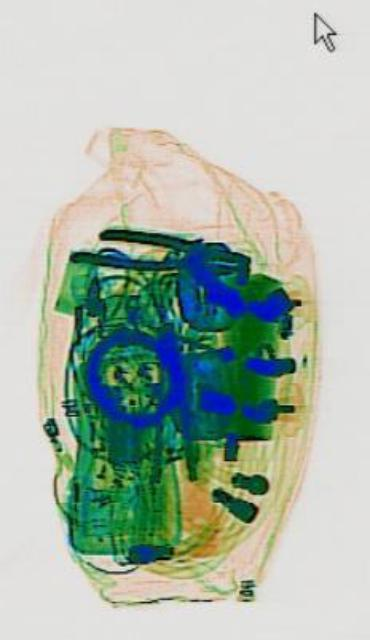Pliers: (66, 220, 248, 280)
